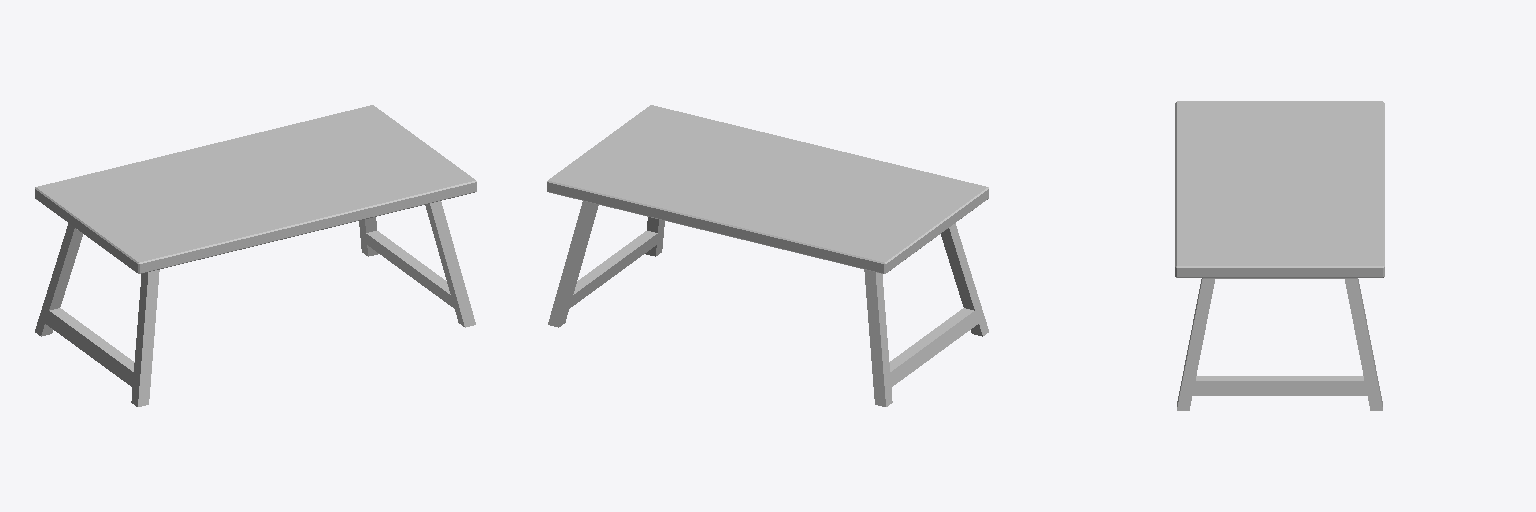
Rendered from table-fold.obj.
3 renders of one model, left to right at view 1: azimuth 30°, elevation 25°; view 2: azimuth 150°, elevation 25°; view 3: azimuth 270°, elevation 25°, orthographic.
Parts seen in each view (by area): view 1: table_Cube.001; view 2: table_Cube.001; view 3: table_Cube.001.
Boxes of the visible parts, box(x1,y1,x2,y2) form: table_Cube.001: box(35, 105, 476, 406); table_Cube.001: box(547, 105, 988, 406); table_Cube.001: box(1175, 101, 1384, 410).
Bounding box in the file's own units: 1.5 × 0.61 × 0.8.